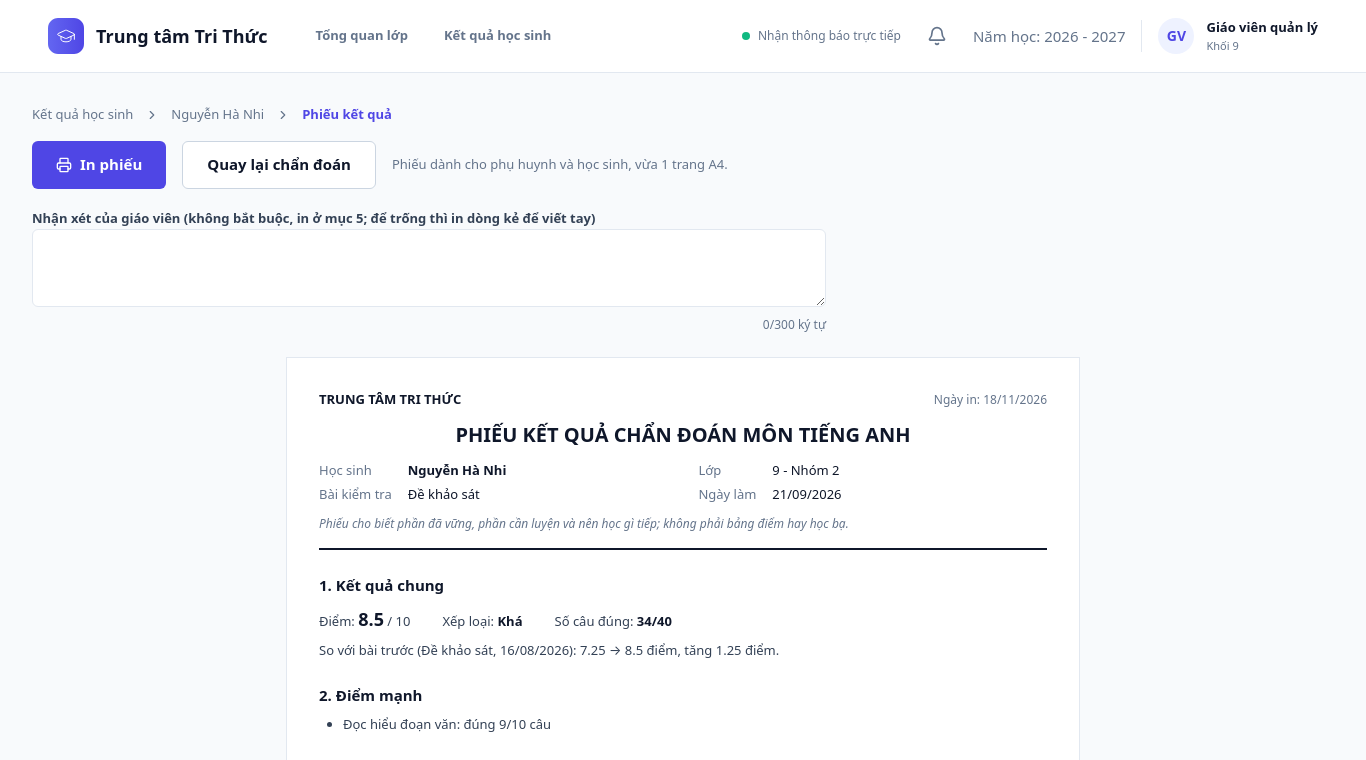
Test: phiếu kết quả: điểm mạnh, phần cần luyện, kế hoạch học, so với bài trước; không có mã kỹ thuật
The width and height of the screenshot is (1366, 760).
Expected: the heading "PHIẾU KẾT QUẢ CHẨN ĐOÁN MÔN TIẾNG ANH" is shown, [455,421,911,448]
Expected: the text "7.25 → 8.5 điểm, tăng 1.25 điểm" is shown, [319,640,779,658]
# Nhận xét gõ trên máy được in ở mục 5 thay cho dòng kẻ
Step 1. Type "Em tiến bộ rõ ở phần đọc." into the text box labelled "Nhận xét của giáo viên" → (429, 268), box [32,228,826,306]
(page scrolled)
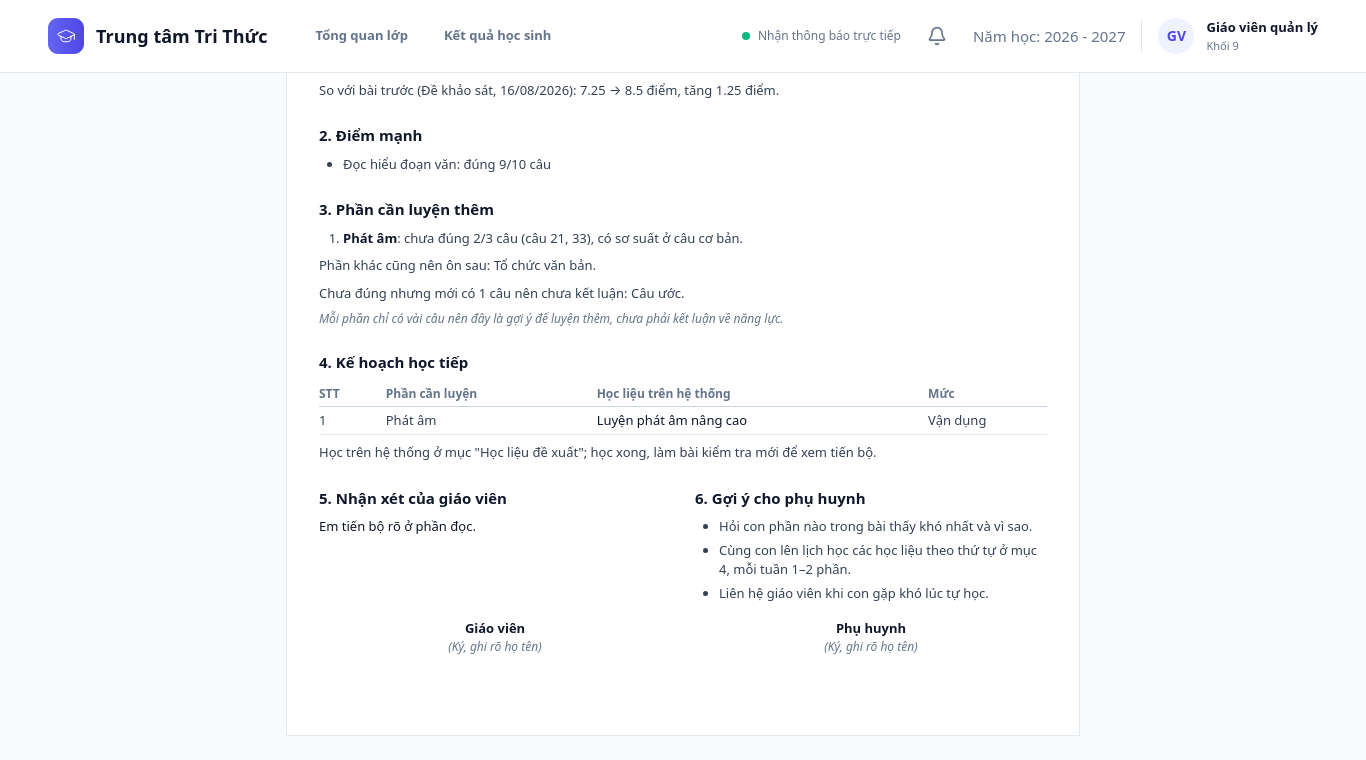
Expected: the text "Em tiến bộ rõ ở phần đọc." is shown, [319,517,476,535]
